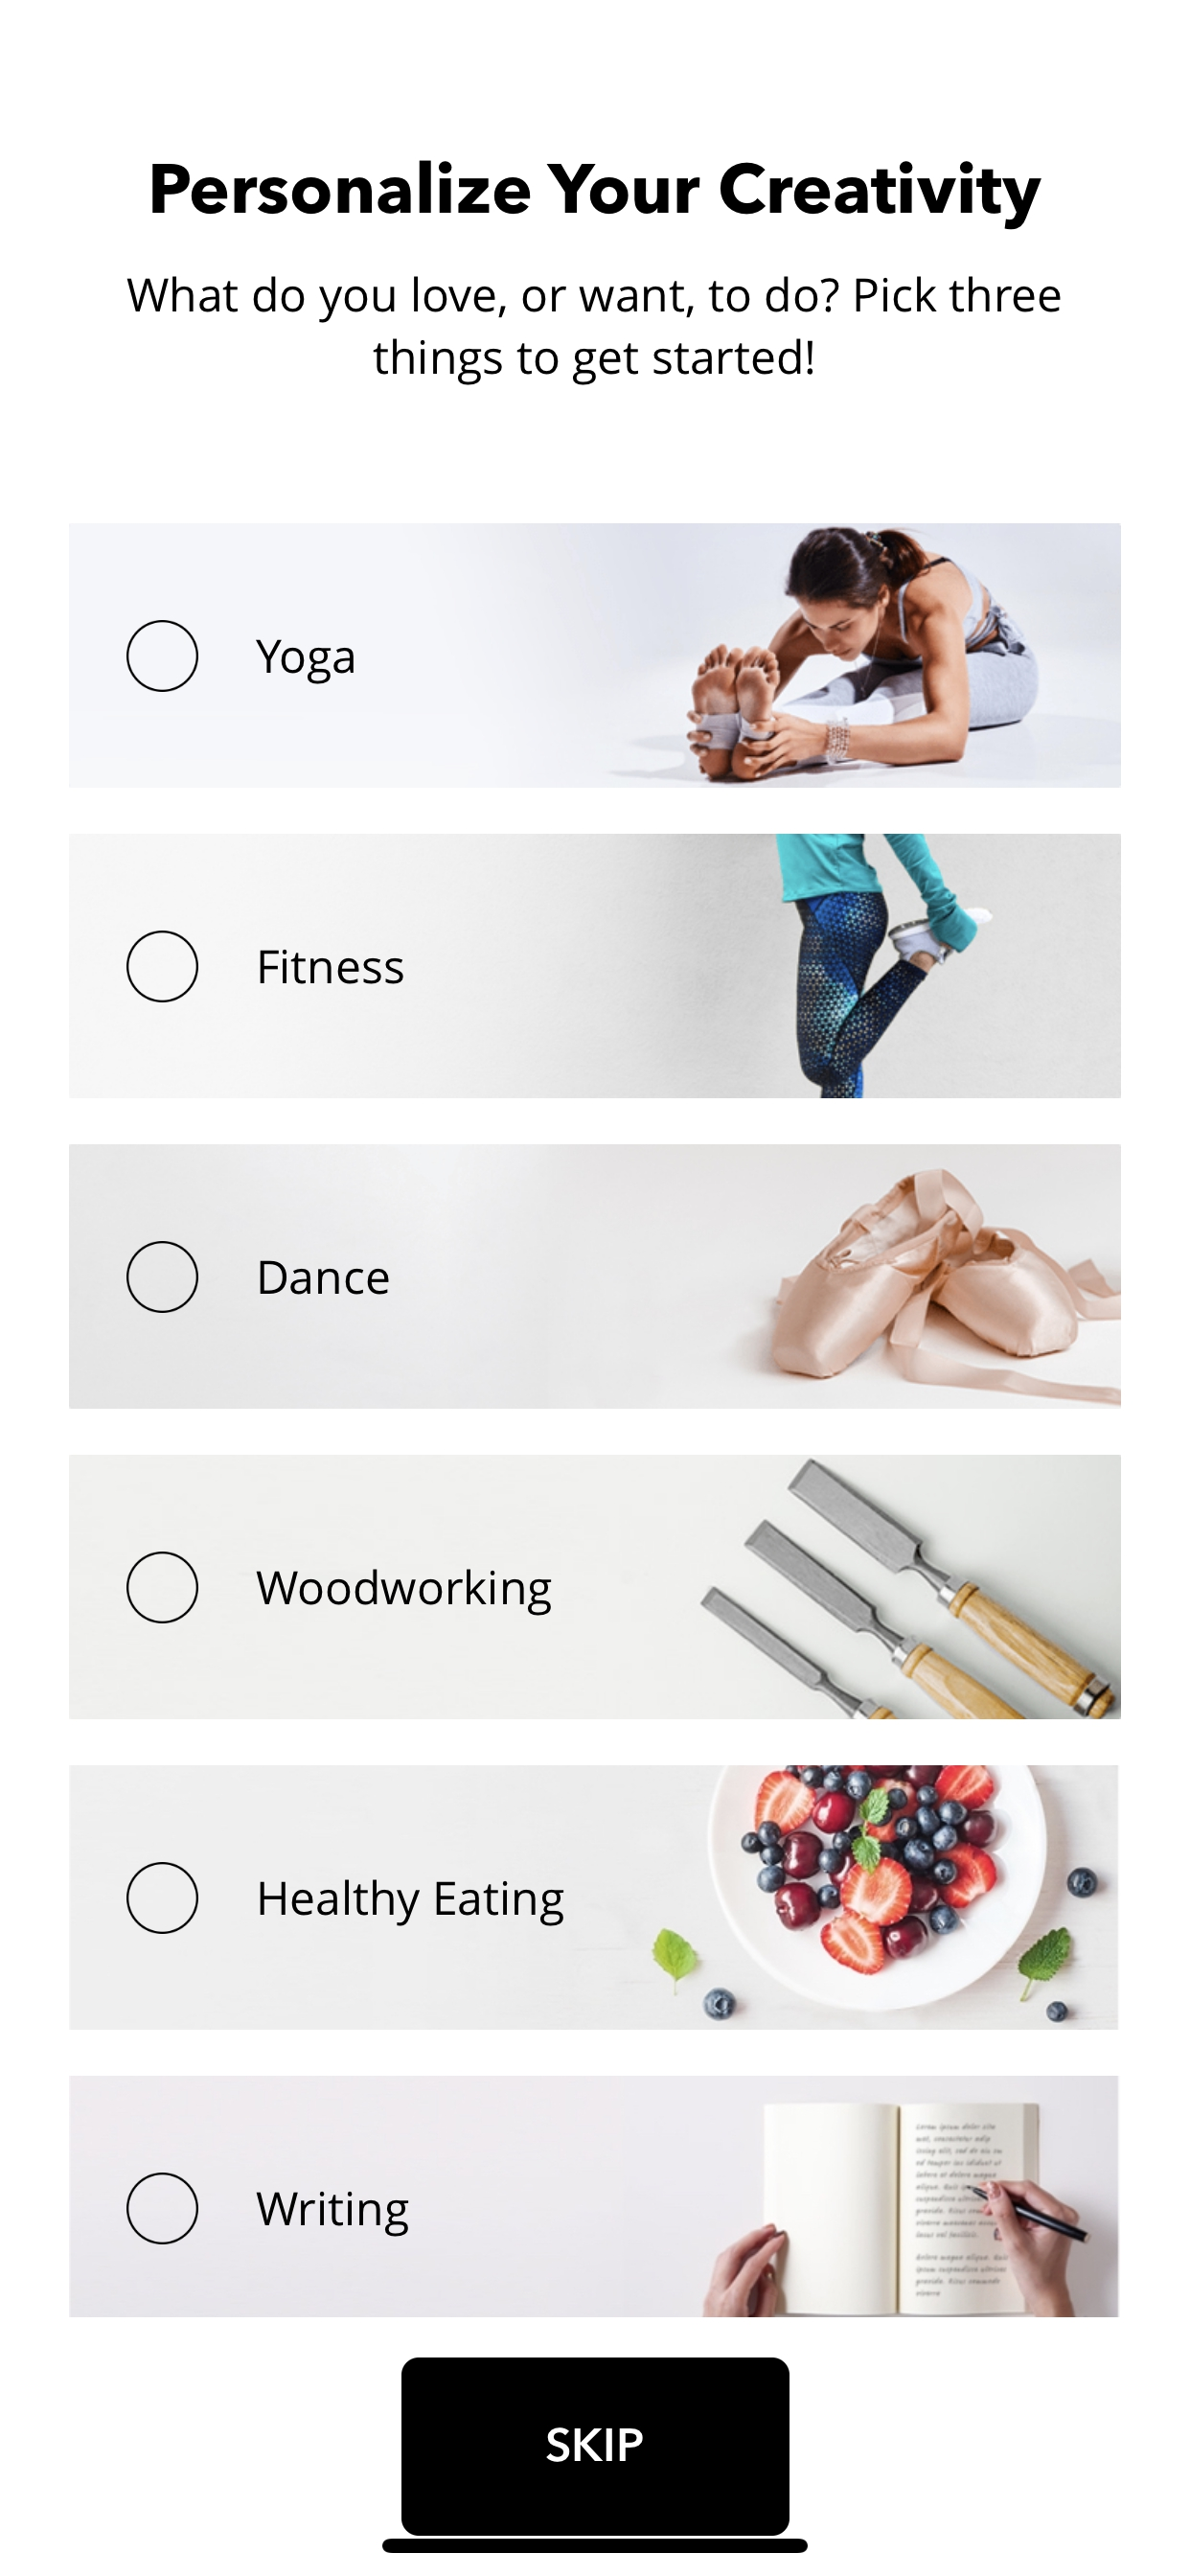BackgroundImage: (71, 1764, 1119, 2031), (71, 524, 1121, 789), (71, 835, 1121, 1099), (71, 1145, 1121, 1410), (71, 1456, 1121, 1718), (71, 2077, 1119, 2316)
CheckedTextView: (127, 1861, 565, 1935), (125, 1551, 552, 1625), (127, 2170, 409, 2246), (127, 930, 406, 1004), (127, 1240, 390, 1314), (125, 619, 355, 695)
Text: (128, 278, 1060, 386), (153, 161, 1042, 232), (261, 1879, 564, 1927), (256, 1569, 552, 1617), (256, 2192, 409, 2238), (261, 950, 404, 986), (261, 1262, 390, 1296), (256, 641, 355, 685)
TextButton: (403, 2357, 789, 2537)
